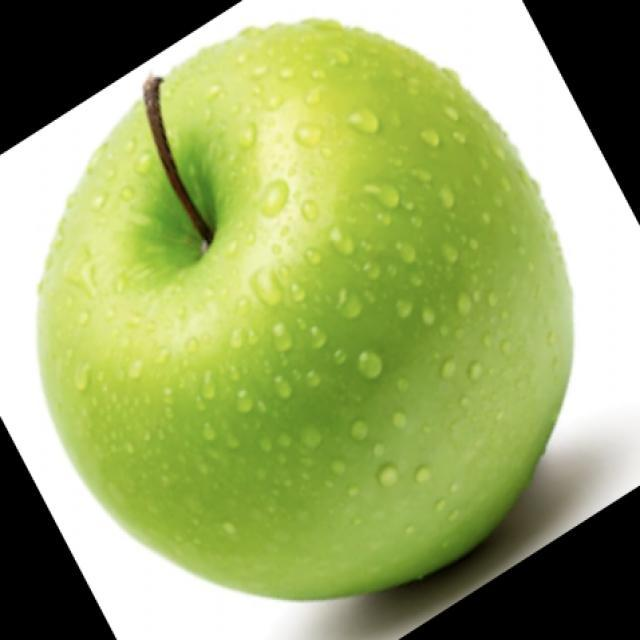Fresh Apple: (65, 57, 560, 588)
